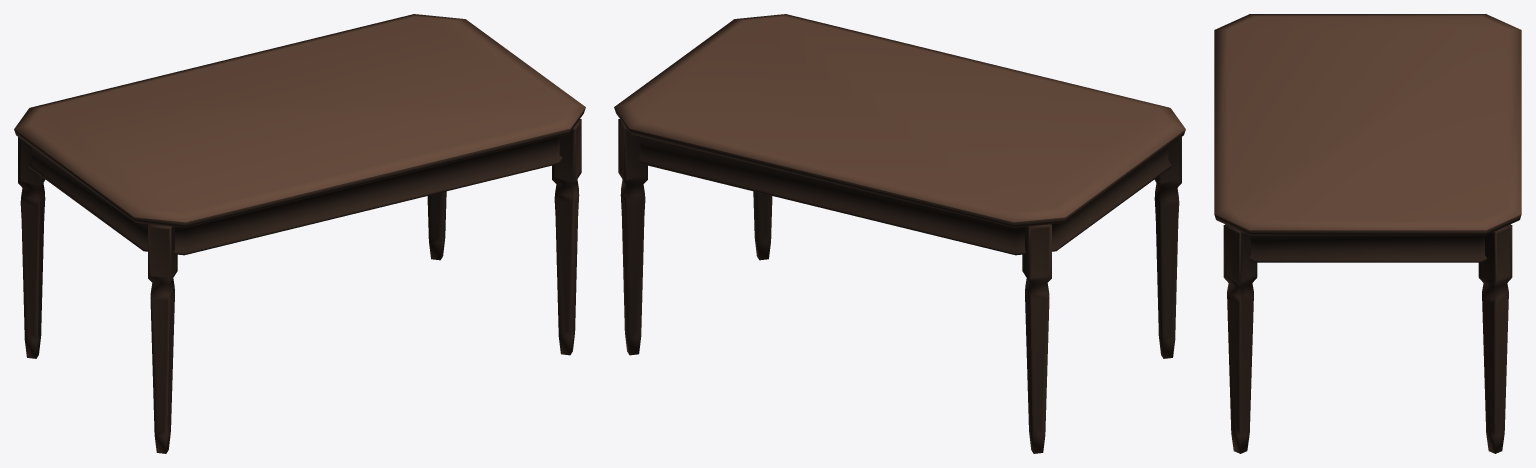
The picture shows the model from 3 angles, left to right: view 1: azimuth 30°, elevation 25°; view 2: azimuth 150°, elevation 25°; view 3: azimuth 270°, elevation 25°; orthographic projection.
Visible parts, largest first — view 1: alt3.015; view 2: alt3.015; view 3: alt3.015.
Part boxes in pixels (x1,y1,x2,y2): alt3.015: [14, 14, 585, 453]; alt3.015: [614, 14, 1185, 453]; alt3.015: [1214, 14, 1521, 453].
Bounding box in the file's own units: 0.5 × 0.2541 × 0.3002.
